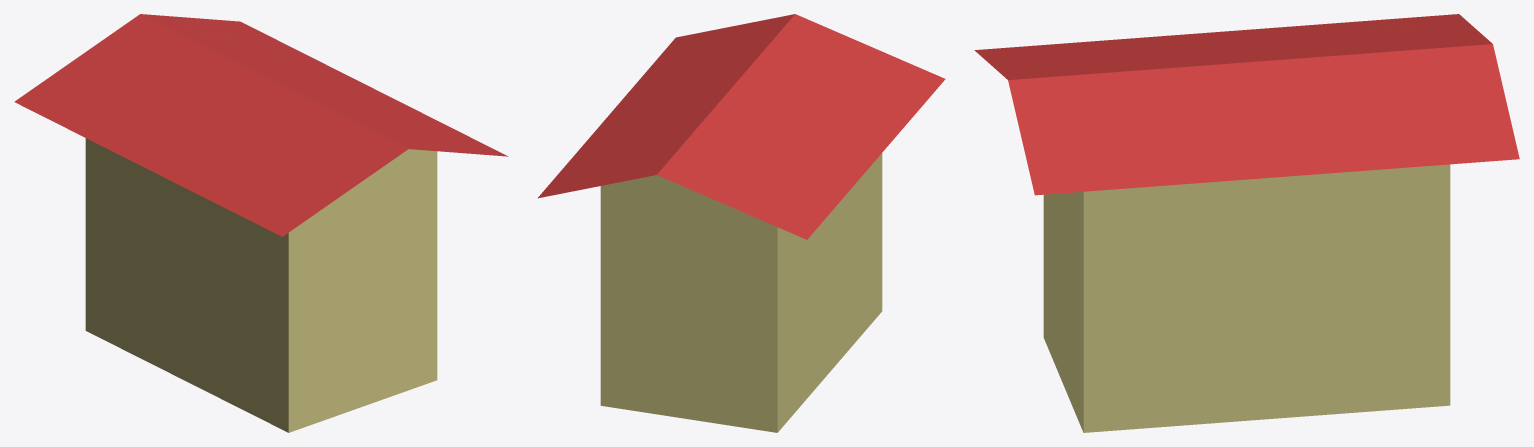
3 views of the same model, side by side, from view 1: azimuth 30°, elevation 25°; view 2: azimuth 150°, elevation 25°; view 3: azimuth 270°, elevation 25° (orthographic). The views are drawn at different scales.
Bounding box in the file's own units: 7.15 × 9.09 × 5.85.
